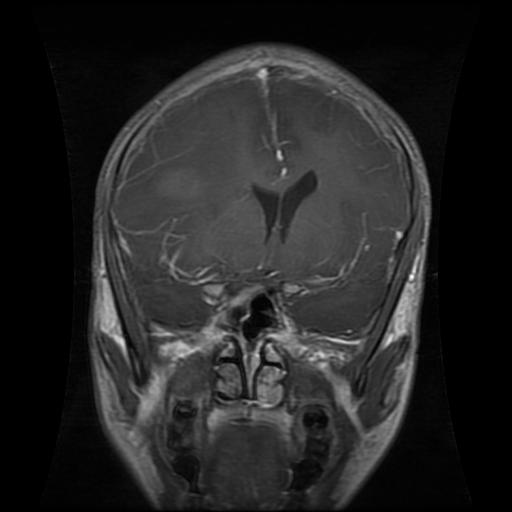Gliomia_tumour: (151, 163, 210, 202)
